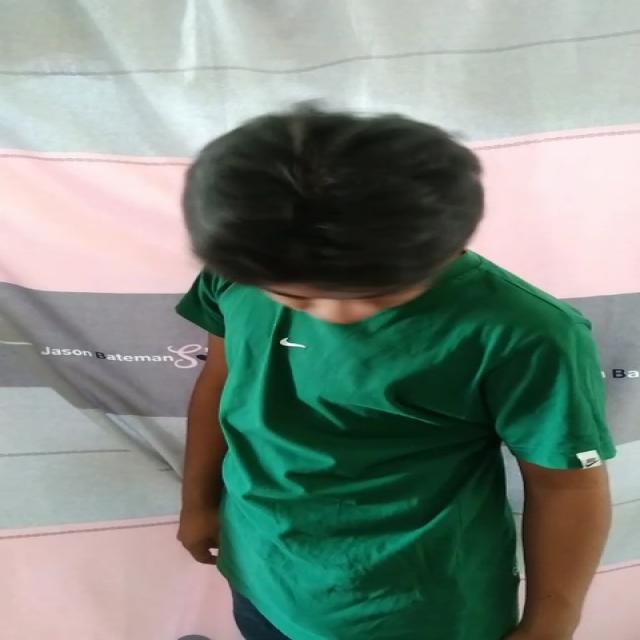9_cabeza_baja: (182, 108, 483, 326)
